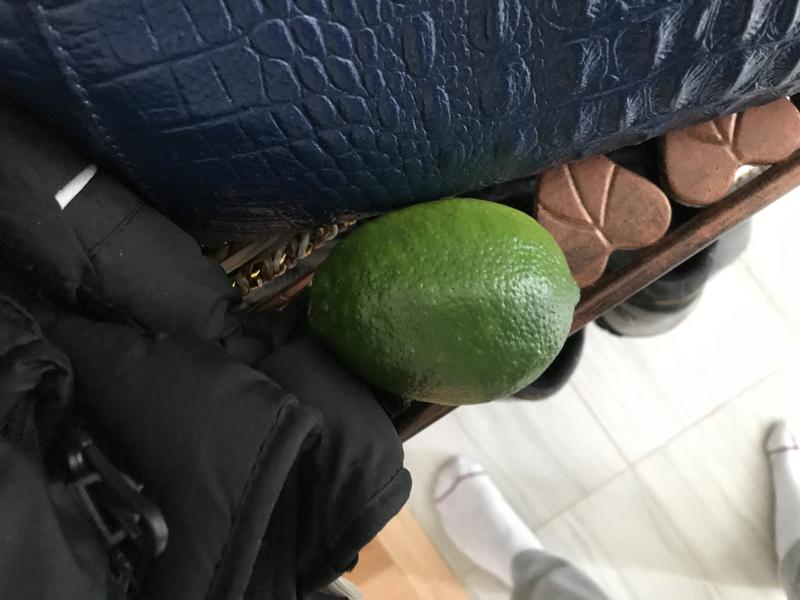lime: (291, 185, 597, 416)
